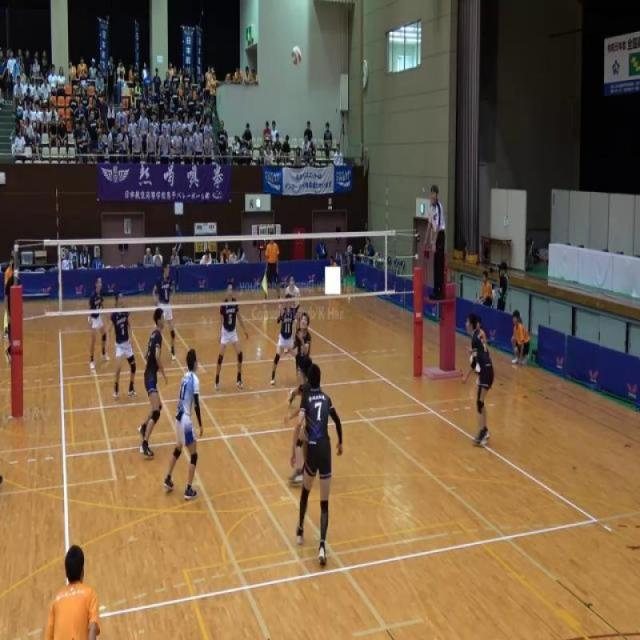volleyball: (291, 45, 303, 67)
